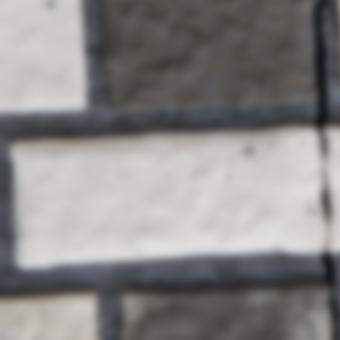brick: (104, 0, 317, 111), (122, 280, 331, 339), (0, 0, 86, 111), (0, 292, 100, 339), (337, 0, 339, 16)
broken_brick: (11, 125, 325, 266), (324, 126, 339, 250)
crack: (313, 0, 338, 339)
